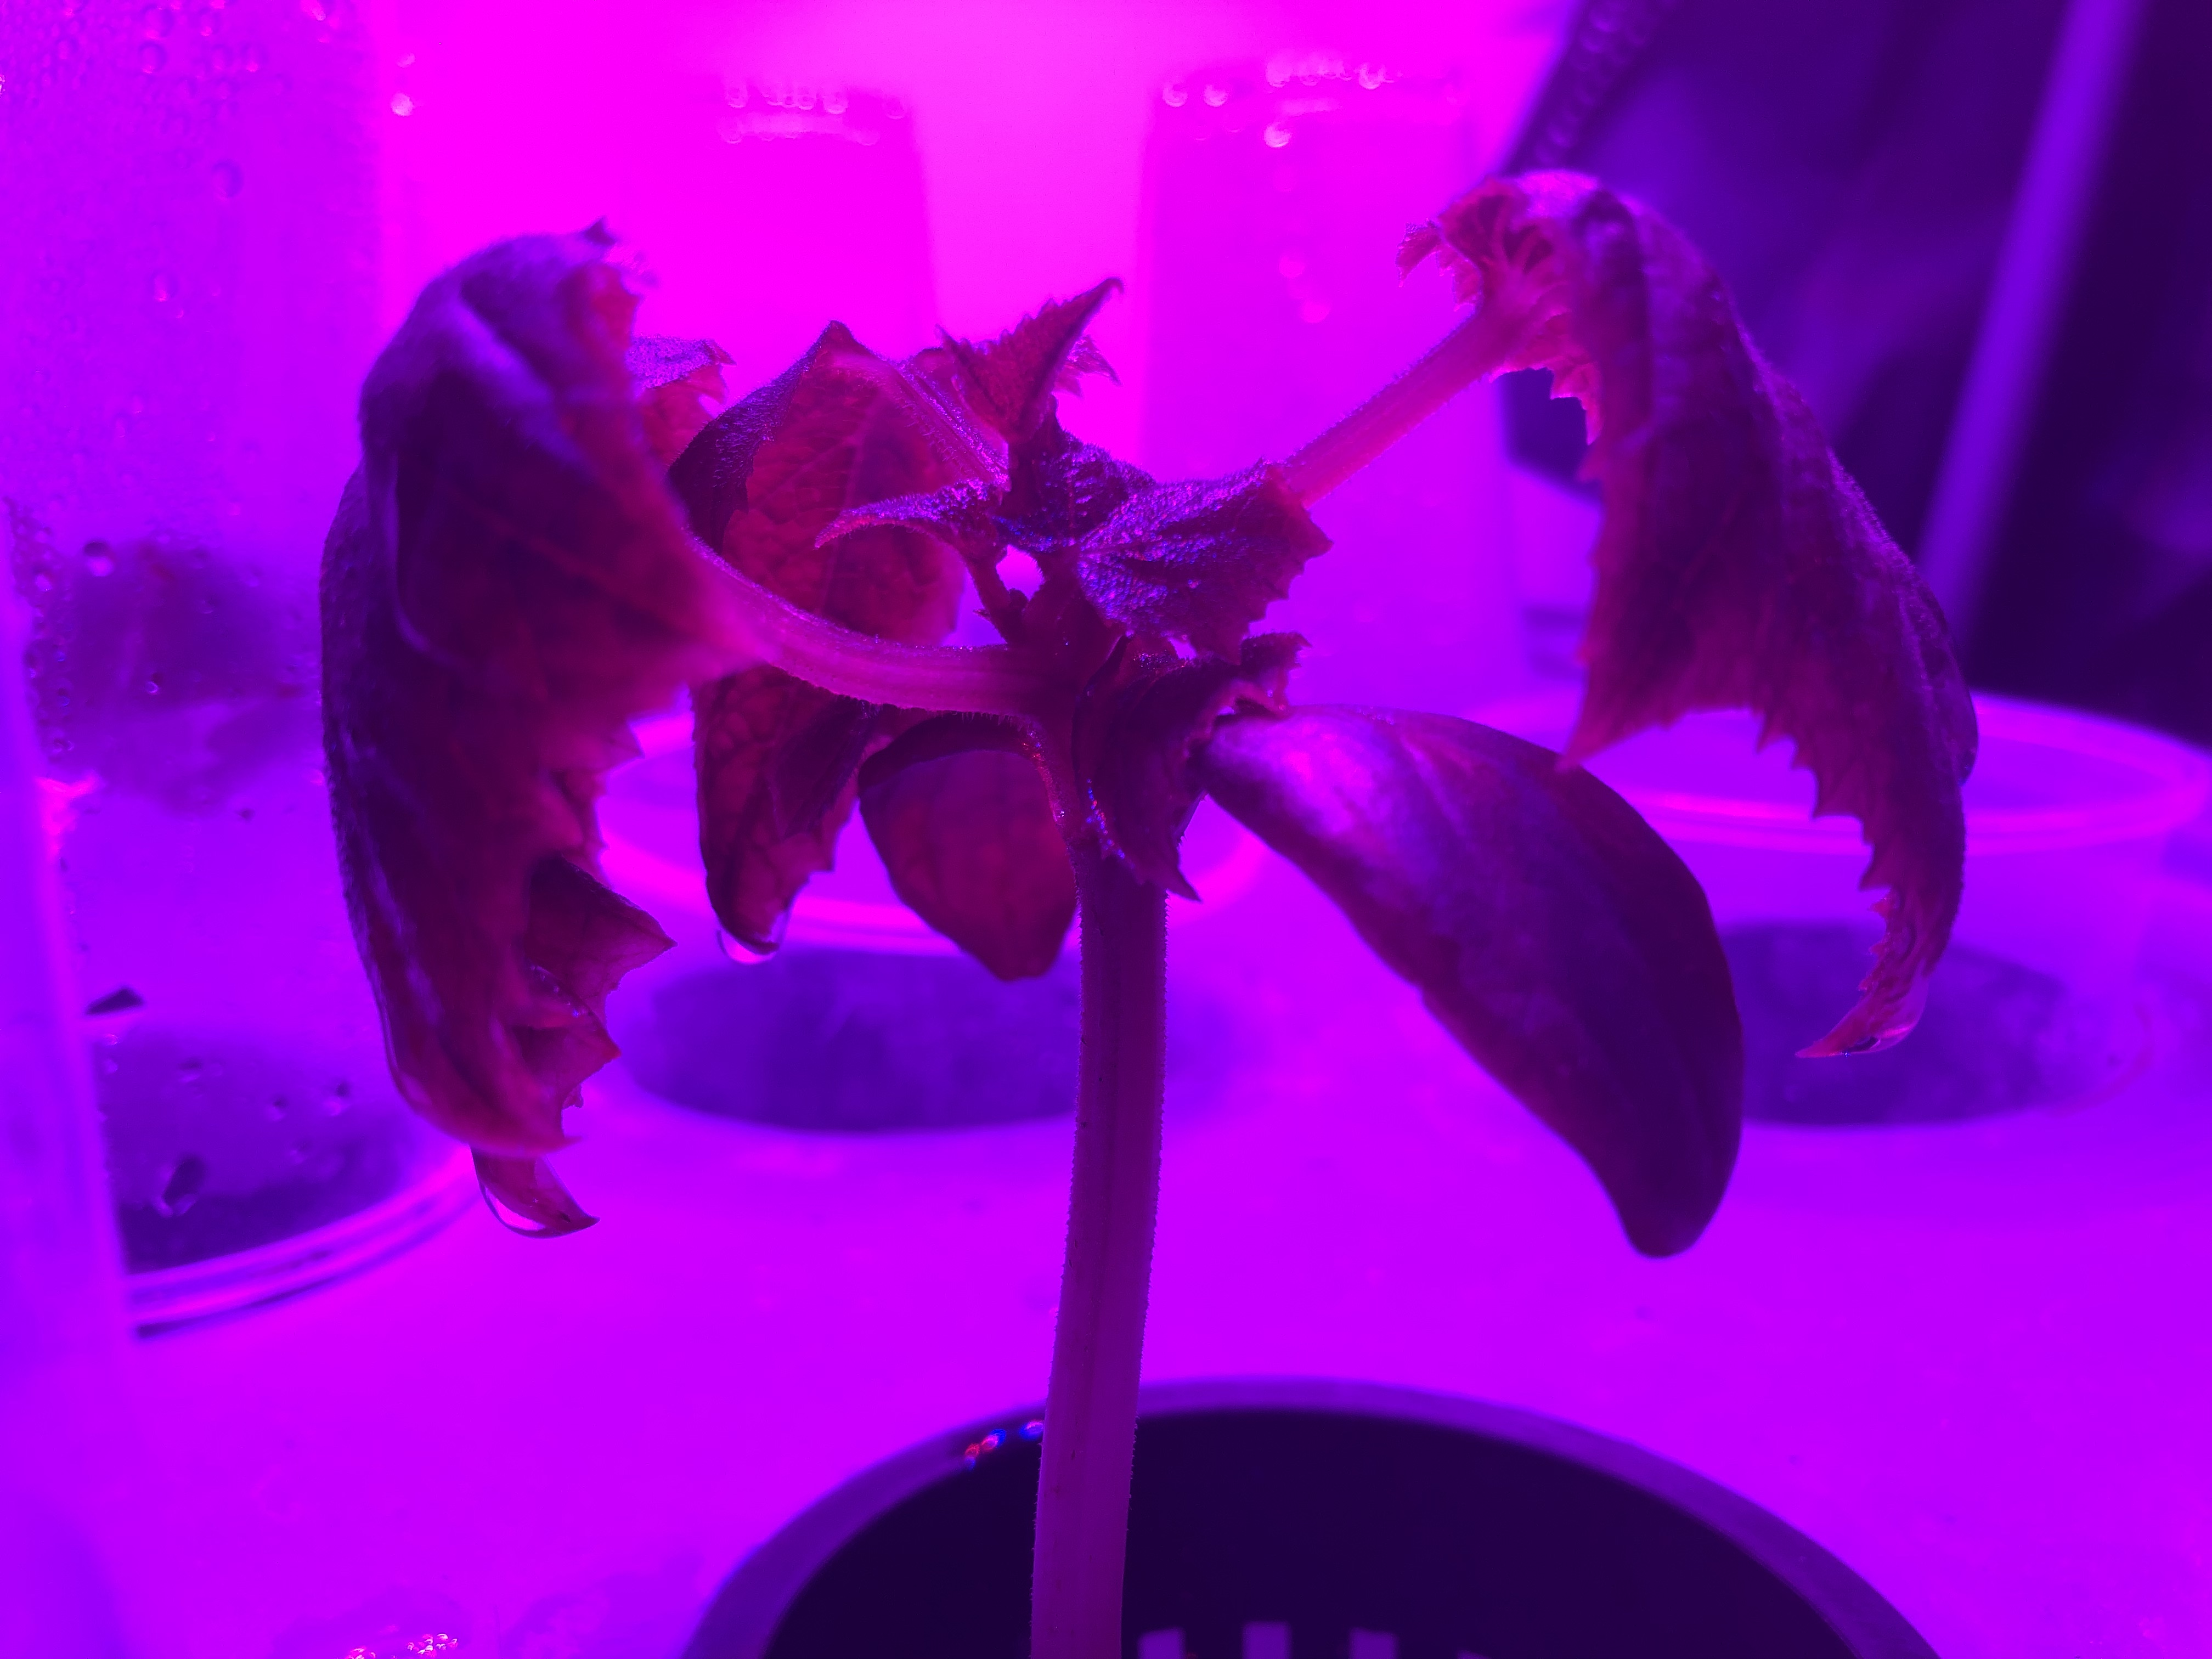lil_plant: (324, 185, 1939, 1314)
